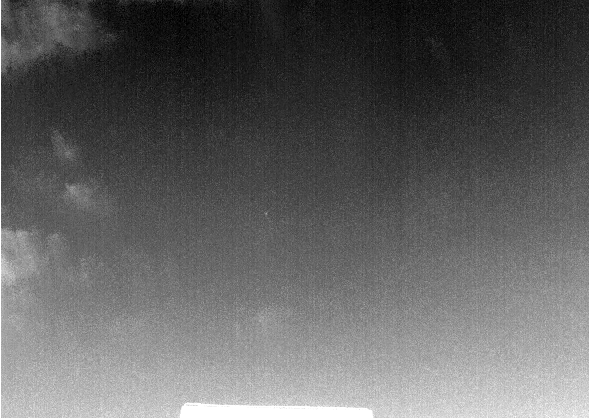dim target: (263, 211, 269, 216)
